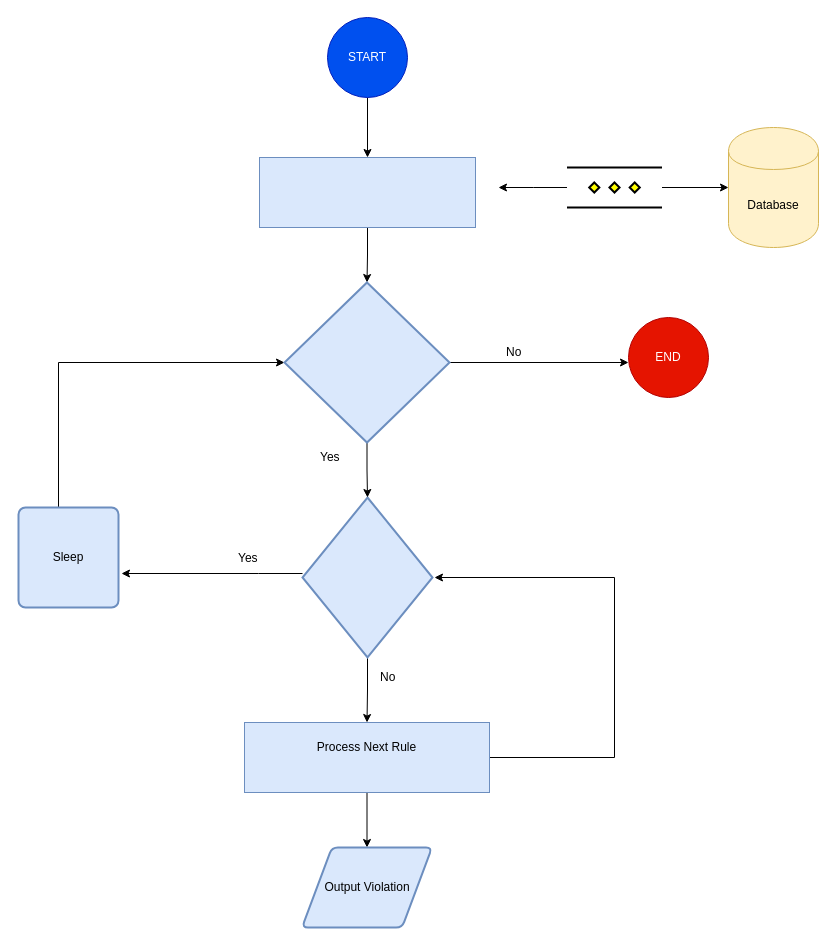
The diagram is 836 pixels wide and 946 high, and some of its shapes have lost their labels. The shapes that lost their labels are listed below. From the top down, each one's centre as x and y in pixels, then its label:
At (x=367, y=192): "Retrieve Rules".
At (x=366, y=362): "Is Current Time between Start and End Time?".
At (x=367, y=577): "Have all Rules been Processed?".
